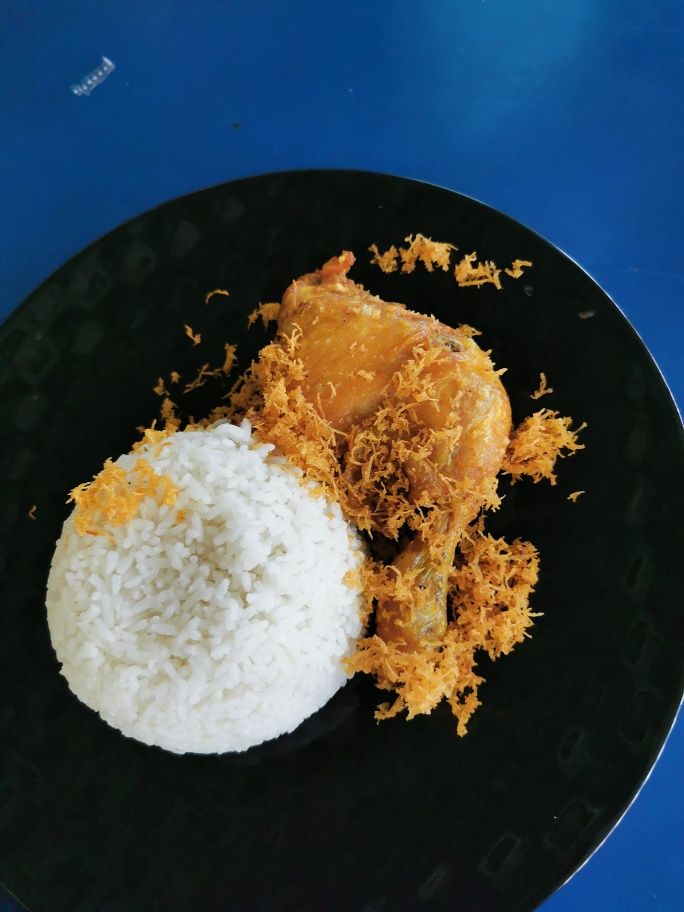ayam goreng: (264, 241, 549, 744)
nasi putih: (57, 409, 379, 779)
